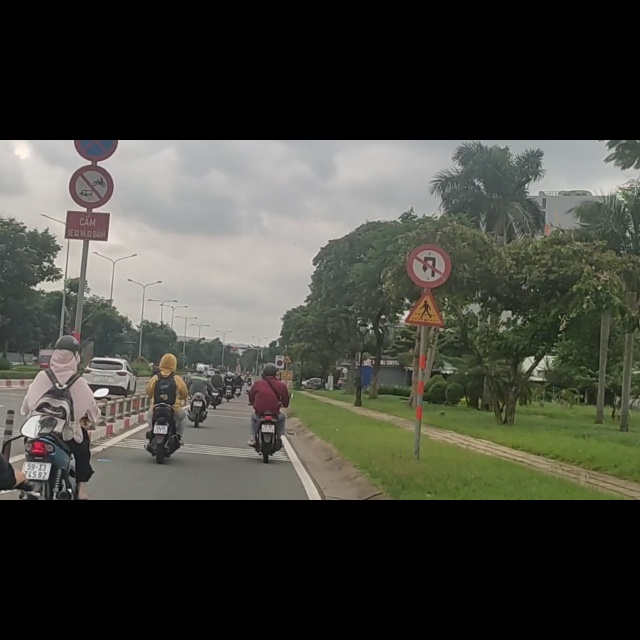bien_cam: (69, 45, 115, 121), (407, 184, 451, 263), (405, 267, 445, 333), (75, 1, 119, 37), (277, 391, 283, 402)
